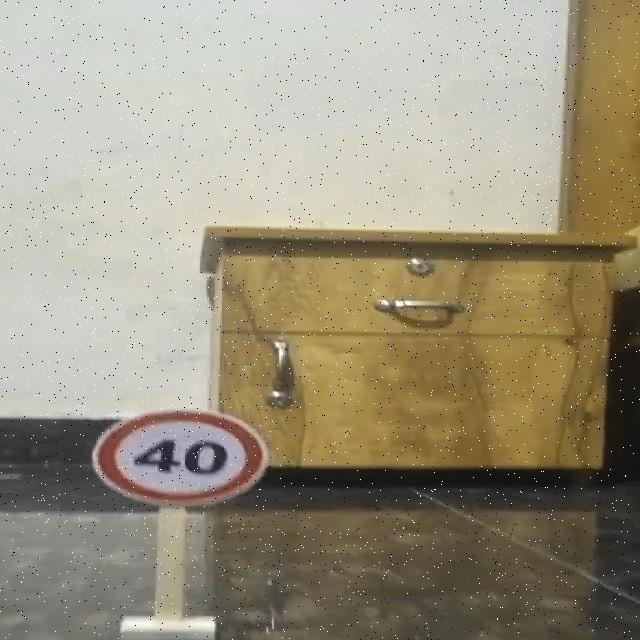Speed40: (86, 404, 274, 510)
